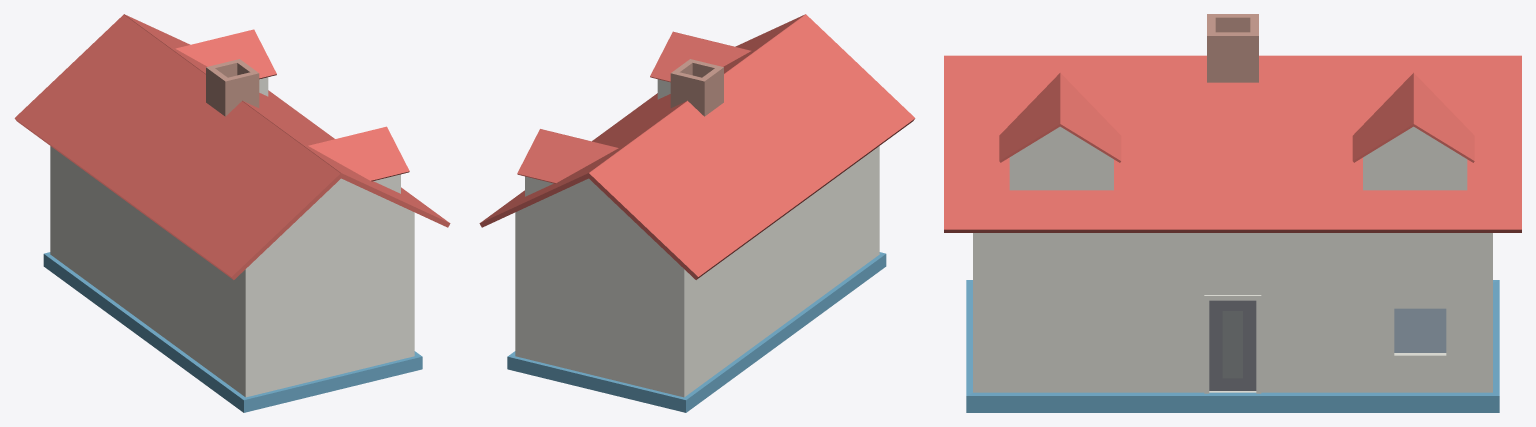
Rendered from House.fbx.
3 renders of one model, left to right at view 1: azimuth 30°, elevation 25°; view 2: azimuth 150°, elevation 25°; view 3: azimuth 270°, elevation 25°, orthographic. The views are drawn at different scales.
Parts seen in each view (by area): view 1: House; view 2: House; view 3: House.
Boxes of the visible parts, x1,y1,x2,y2 form: House: [14, 14, 450, 412]; House: [479, 14, 915, 412]; House: [944, 14, 1521, 412].
Bounding box in the file's own units: 1295 × 1400 × 2224.
